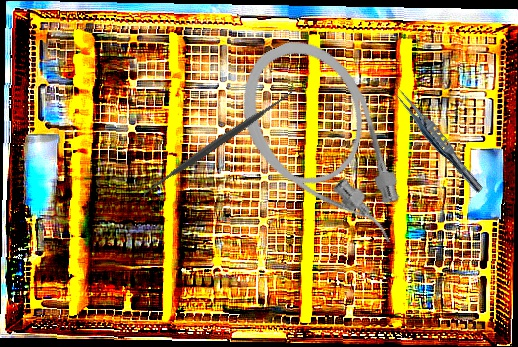Cannula: (219, 22, 427, 277)
Spatula Surgical: (134, 80, 303, 204)
Tissue Forceps: (389, 85, 488, 196)
